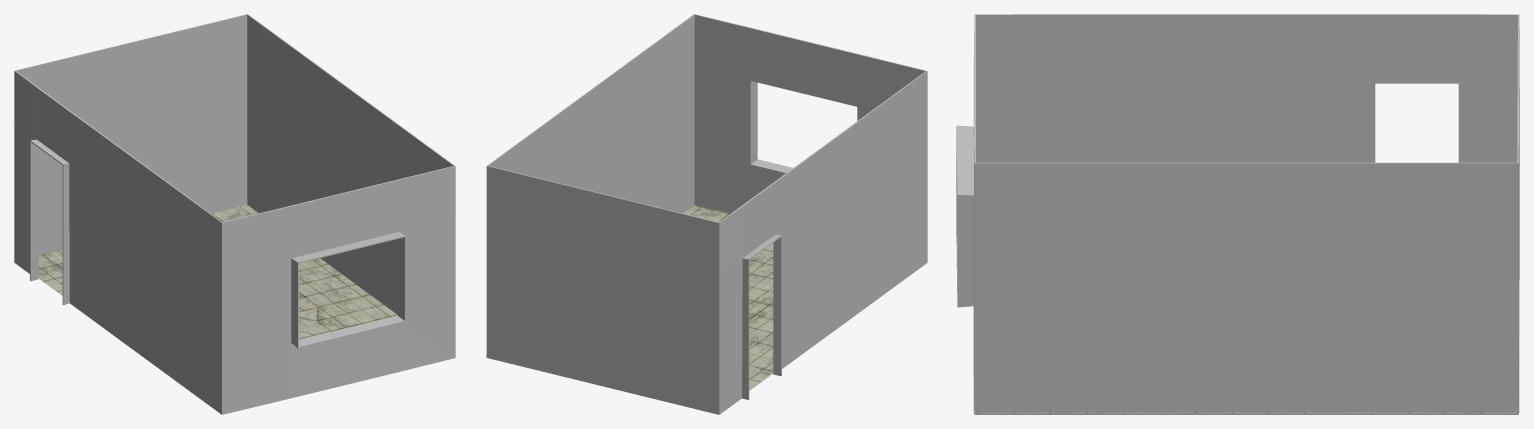
The model's file is Lounge_Temp.fbx.
The picture shows the model from 3 angles, left to right: view 1: azimuth 30°, elevation 25°; view 2: azimuth 150°, elevation 25°; view 3: azimuth 270°, elevation 25°; orthographic projection. The views are drawn at different scales.
Parts seen in each view (by area): view 1: Walls.003, Plane.026; view 2: Walls.003, Plane.026; view 3: Walls.003, Plane.026.
Part boxes in pixels (x1,y1,x2,y2): Walls.003: [14, 14, 455, 414]; Plane.026: [38, 205, 456, 412]; Walls.003: [486, 14, 927, 414]; Plane.026: [486, 205, 773, 390]; Walls.003: [956, 14, 1519, 414]; Plane.026: [973, 337, 1519, 413].
Bounding box in the file's own units: 556 × 423 × 859.
